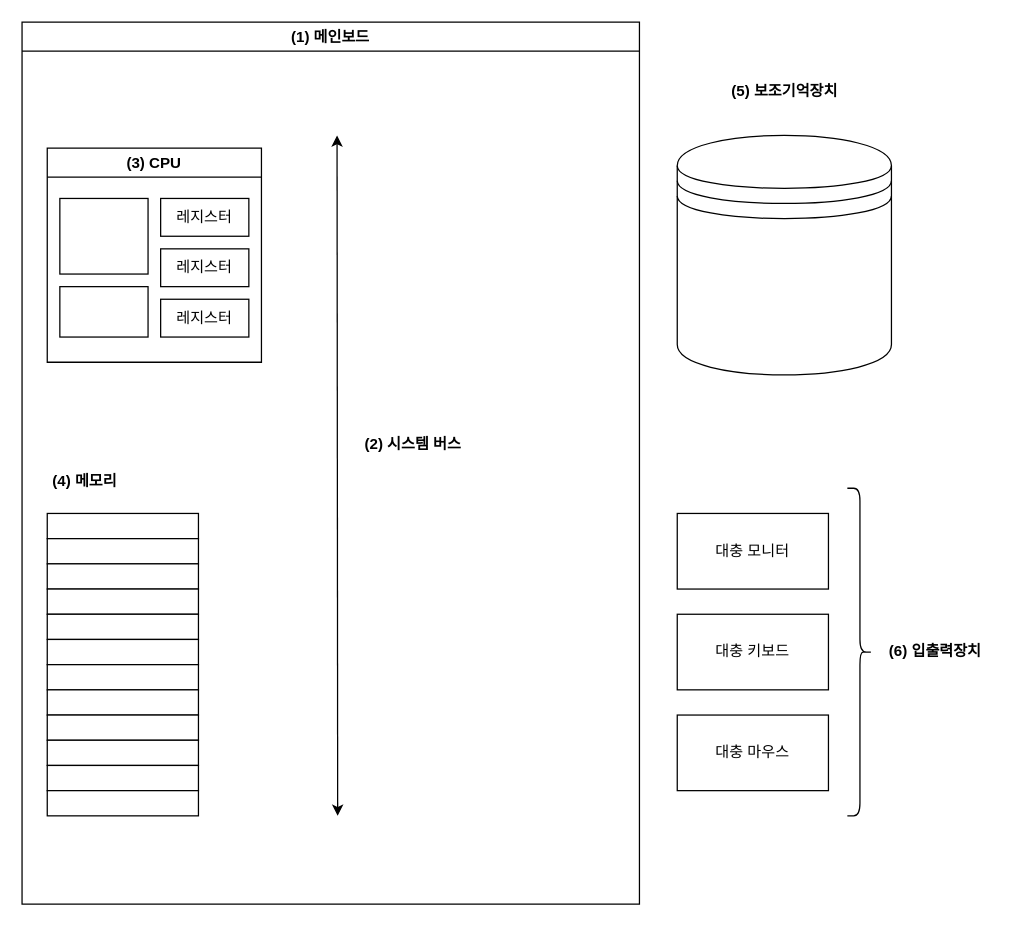
Some shapes in this 1014 by 926 pixel diagram are drawn without their labels. Here are the shapes that lost their labels. From the top down, the centre of each, then its label:
At (103,235): "ALU".
At (103,311): "제어장치".
